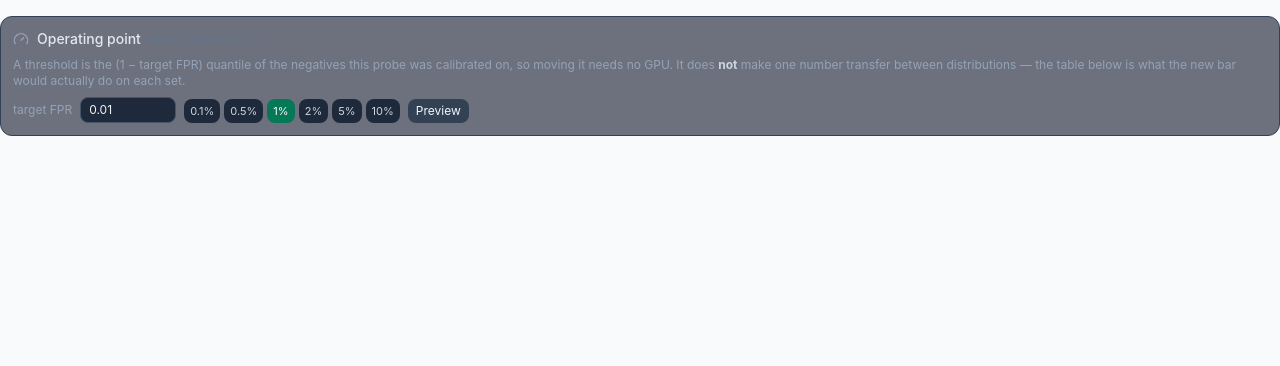
Test: ThresholdDial › renders a fire-on-nothing bar as that, NEVER as 0.0000
This screenshot has width=1280, height=366.
Click the button "Preview".
click(438, 111)  # box [408,99,469,123]
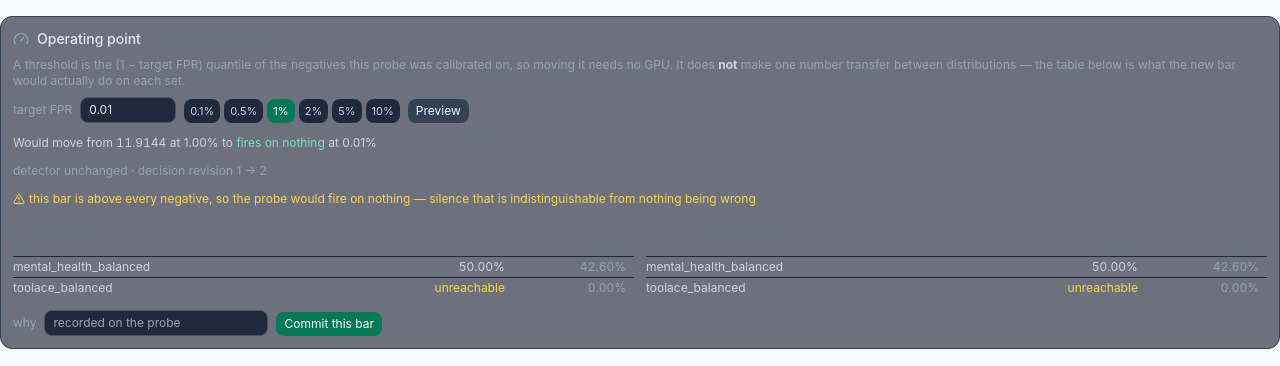
Result: the element with test id "recalibrate-proposal" shows "fires on nothing" at [236,135,325,150]
Result: the element with test id "recalibrate-proposal" shows "silence" at [29,191,756,206]
